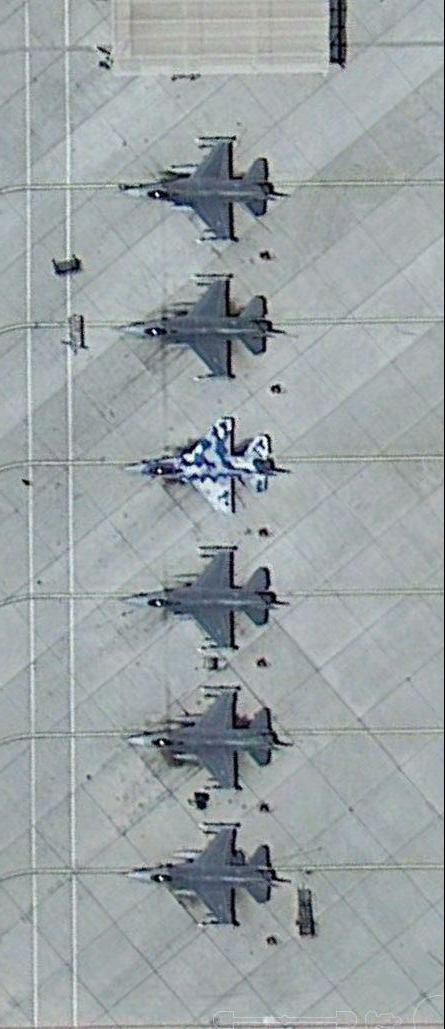F-16: (117, 132, 281, 244), (126, 821, 287, 927), (121, 544, 283, 649), (125, 686, 286, 790), (135, 278, 276, 384), (127, 421, 281, 513)
